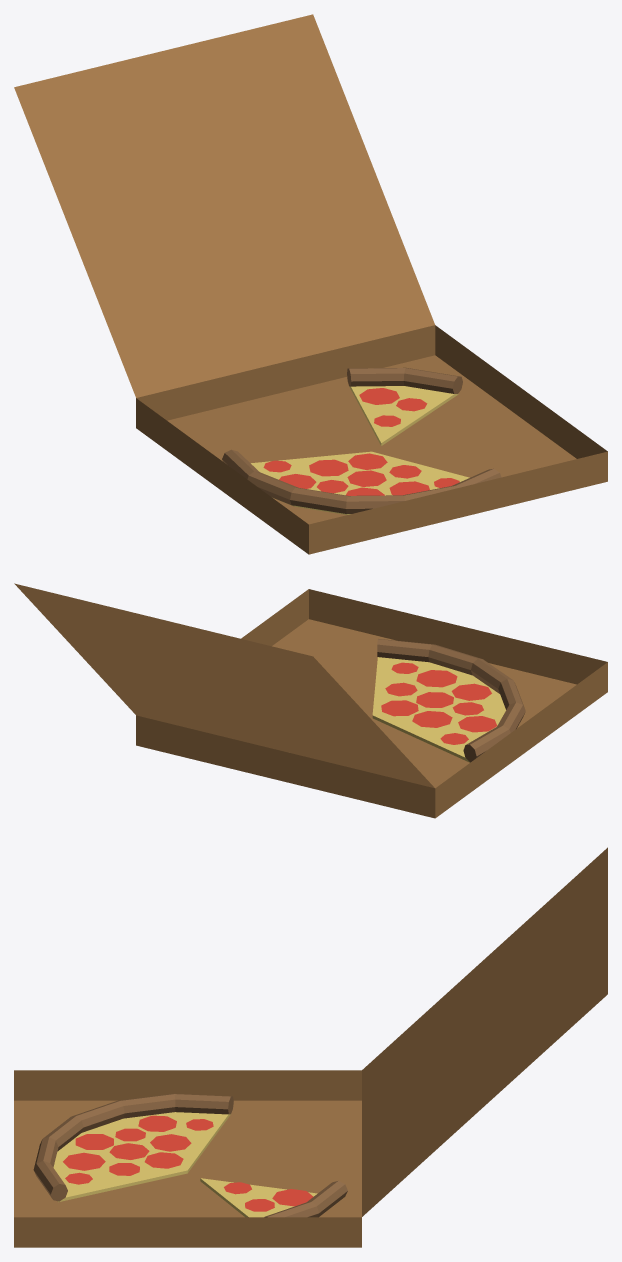
File: Pizza.fbx
The picture shows the model from 3 angles, top to bottom: view 1: azimuth 30°, elevation 25°; view 2: azimuth 150°, elevation 25°; view 3: azimuth 270°, elevation 25°; orthographic projection.
Parts seen in each view (by area): view 1: Cube.003, Cube.002, Torus.001, Cylinder.020, Cylinder.021, Torus.002; view 2: Cube.002, Cube.003, Cylinder.020, Torus.001, Circle.008, Circle.004, Circle.009, Circle.006, Circle.003, Circle, Circle.002, Circle.005; view 3: Cube.002, Cube.003, Cylinder.020, Torus.001, Cylinder.021, Torus.002, Circle.008, Circle.004.
Part boxes in pixels (bbox=[...]): Cube.003: bbox=[14, 14, 434, 397]; Cube.002: bbox=[136, 325, 607, 554]; Torus.001: bbox=[222, 449, 501, 513]; Cylinder.020: bbox=[251, 451, 469, 514]; Cylinder.021: bbox=[349, 386, 458, 445]; Torus.002: bbox=[347, 367, 462, 393]; Cube.002: bbox=[136, 589, 607, 818]; Cube.003: bbox=[14, 583, 434, 788]; Cylinder.020: bbox=[372, 657, 505, 762]; Torus.001: bbox=[377, 639, 525, 762]; Circle.008: bbox=[416, 670, 457, 687]; Circle.004: bbox=[412, 711, 452, 727]; Circle.009: bbox=[451, 683, 491, 700]; Circle.006: bbox=[458, 716, 496, 732]; Circle.003: bbox=[416, 692, 453, 707]; Circle: bbox=[381, 700, 418, 716]; Circle.002: bbox=[385, 682, 417, 696]; Circle.005: bbox=[452, 702, 483, 715]; Cube.002: bbox=[14, 1070, 361, 1247]; Cube.003: bbox=[362, 847, 607, 1216]; Cylinder.020: bbox=[53, 1112, 230, 1202]; Torus.001: bbox=[33, 1093, 233, 1201]; Cylinder.021: bbox=[200, 1178, 317, 1217]; Torus.002: bbox=[264, 1180, 347, 1217]; Circle.008: bbox=[63, 1152, 105, 1170]; Circle.004: bbox=[150, 1134, 191, 1151].
Size of the model in its own units: 36.22 by 29.1 by 61.84.
